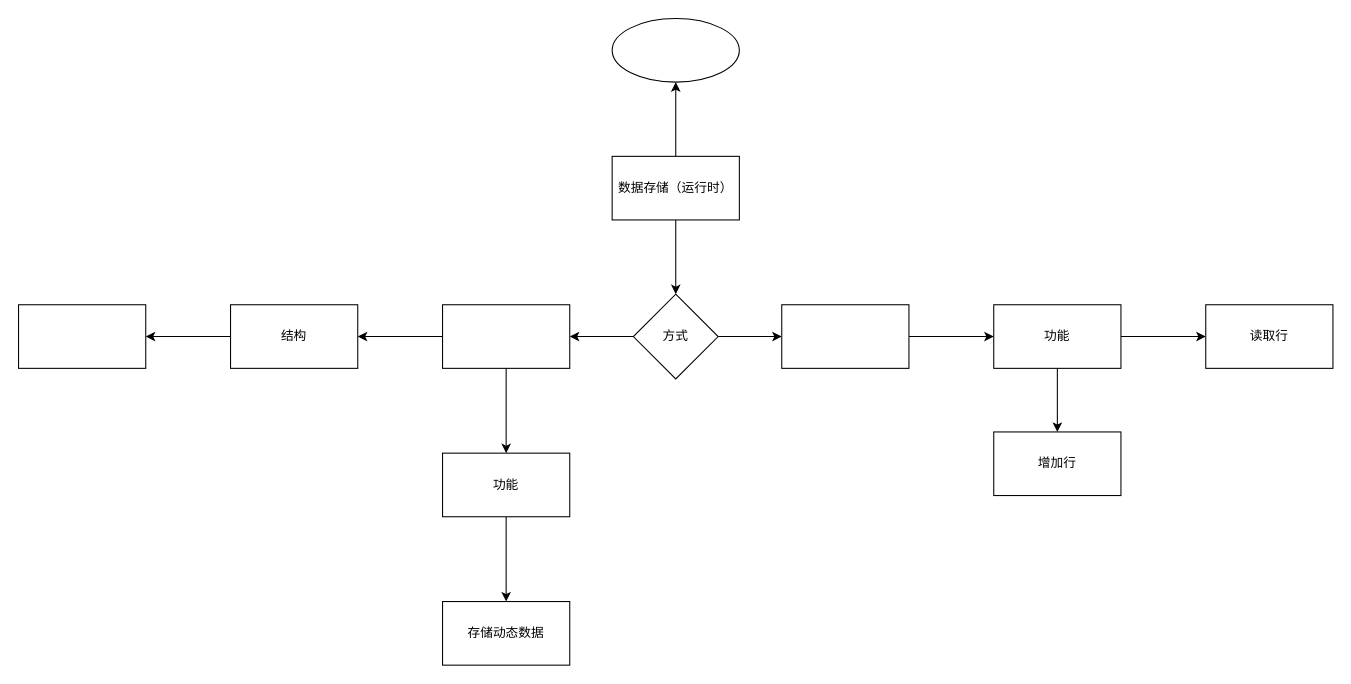
The diagram is 1351 pixels wide and 684 high, and some of its shapes have lost their labels. The centre of each missing label's shape, as x and y in pixels:
存储运行: pixel 675 49
数据节点: pixel 505 336
数据表: pixel 845 336
树状: pixel 81 336
